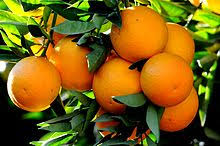orange: (6, 56, 62, 116), (138, 52, 195, 108)
